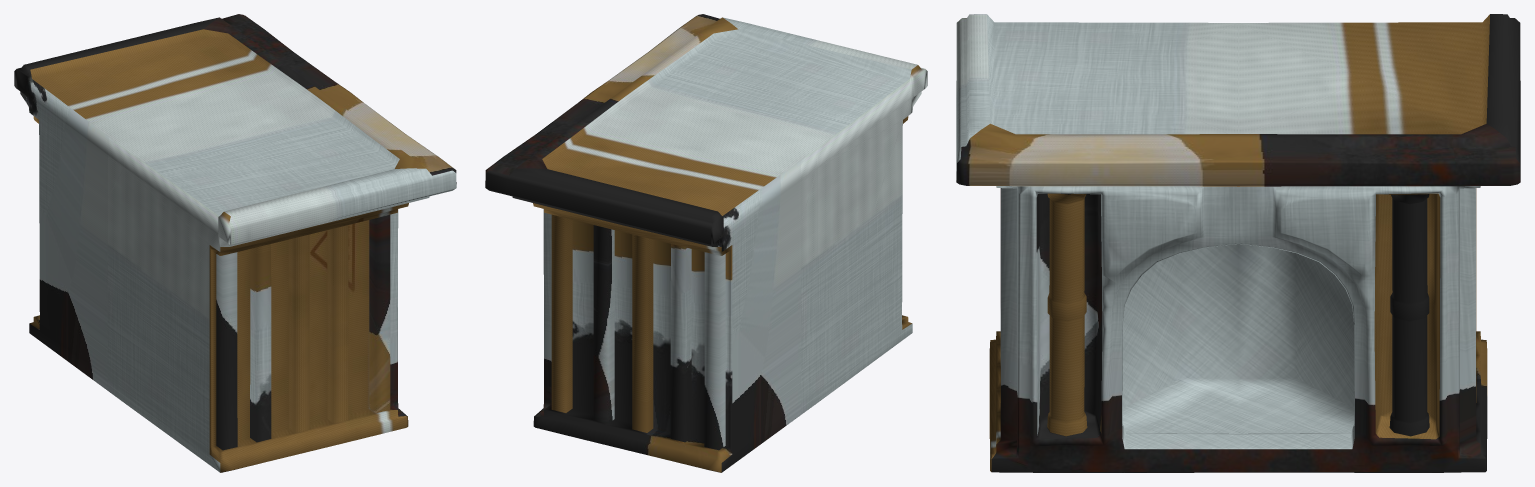
File: fireplace.fbx
The picture shows the model from 3 angles, left to right: view 1: azimuth 30°, elevation 25°; view 2: azimuth 150°, elevation 25°; view 3: azimuth 270°, elevation 25°; orthographic projection. The views are drawn at different scales.
Visible parts, largest first — view 1: defaultMaterial; view 2: defaultMaterial; view 3: defaultMaterial.
Boxes of the visible parts, x1,y1,x2,y2 form: defaultMaterial: [14, 14, 456, 472]; defaultMaterial: [485, 14, 927, 472]; defaultMaterial: [956, 14, 1520, 472].
Size of the model in its own units: 84.71 by 93.22 by 140.
